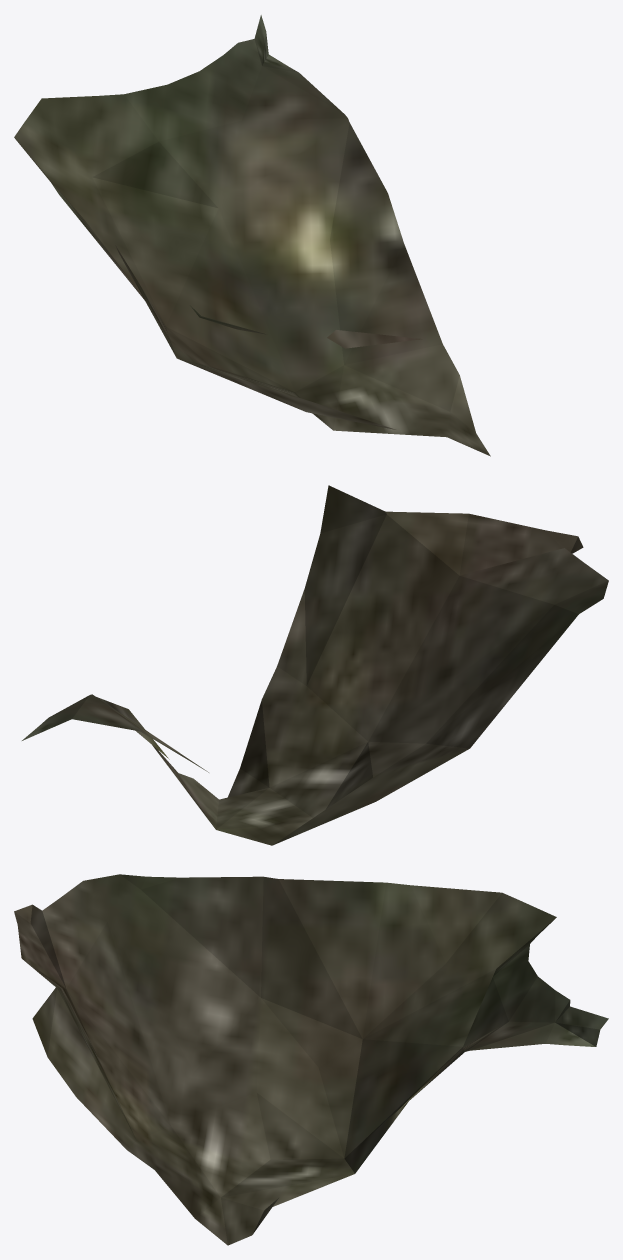
3 views of the same model, one above another, from view 1: azimuth 30°, elevation 25°; view 2: azimuth 150°, elevation 25°; view 3: azimuth 270°, elevation 25° (orthographic). The views are drawn at different scales.
Bounding box in the file's own units: 1.18 × 0.8636 × 2.05.
1 material, 1 textured.
